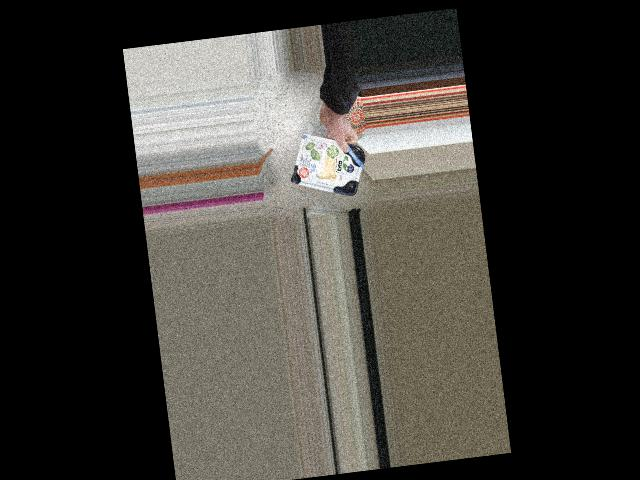cheese: (293, 135, 361, 193)
